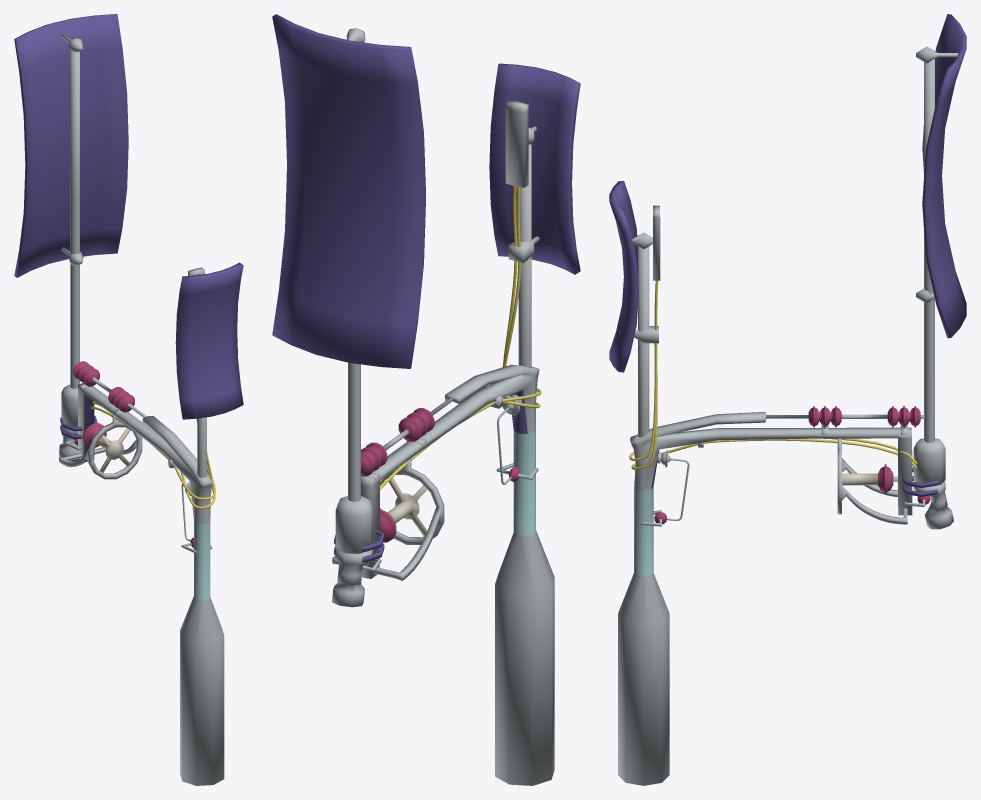
Rendered from trainenergy.glb.
3 views of the same model, side by side, from view 1: azimuth 30°, elevation 25°; view 2: azimuth 150°, elevation 25°; view 3: azimuth 270°, elevation 25° (orthographic). The views are drawn at different scales.
Visible parts, largest first — view 1: Cube.003, BézierCurve; view 2: Cube.003, BézierCurve; view 3: Cube.003, BézierCurve.
Boxes of the visible parts, x1,y1,x2,y2 form: Cube.003: [14, 14, 243, 785]; BézierCurve: [91, 401, 215, 508]; Cube.003: [272, 14, 580, 785]; BézierCurve: [380, 186, 541, 489]; Cube.003: [609, 14, 966, 785]; BézierCurve: [629, 280, 917, 469].
Bounding box in the file's own units: 3 × 18.16 × 8.01.
1 material, 1 textured.
